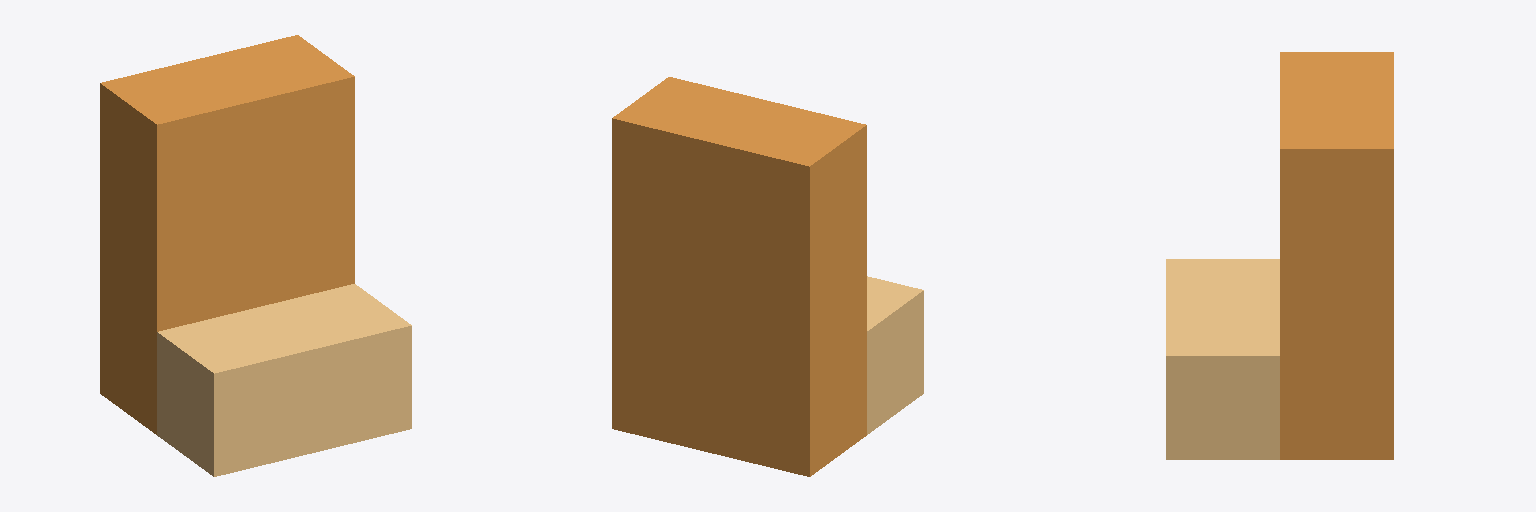
The picture shows the model from 3 angles: view 1: azimuth 30°, elevation 25°; view 2: azimuth 150°, elevation 25°; view 3: azimuth 270°, elevation 25°; orthographic projection.
Parts seen in each view (by area): view 1: object 1; view 2: object 1; view 3: object 1.
Part boxes in pixels (x1,y1,x2,y2): object 1: (100, 35, 411, 476); object 1: (612, 77, 923, 476); object 1: (1166, 52, 1393, 459).
Size of the model in its own units: 0.2 by 0.3 by 0.2.
Materials: 1 (1 with a texture image).